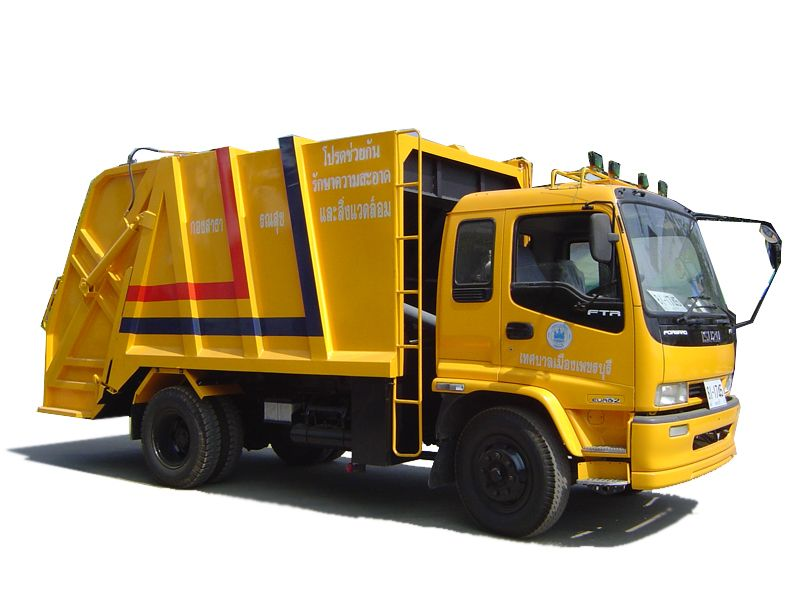truck: (32, 125, 742, 541)
